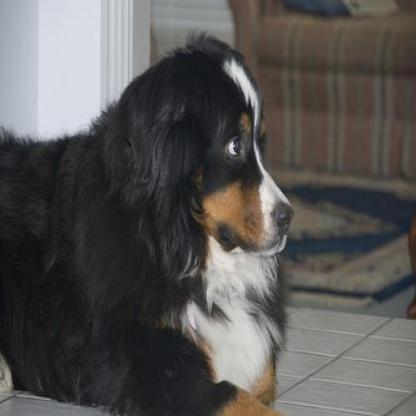Bernese_mountain_dog: (0, 27, 294, 414)
